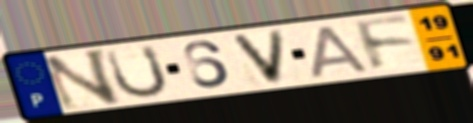6: (181, 40, 233, 91)
A: (309, 23, 372, 80)
F: (351, 14, 419, 74)
N: (38, 46, 123, 113)
U: (103, 43, 172, 101)
V: (227, 27, 288, 86)
